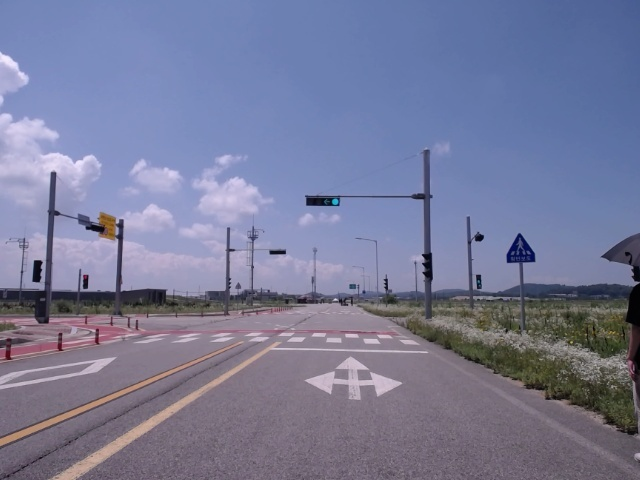all_green_4: (303, 195, 342, 206)
